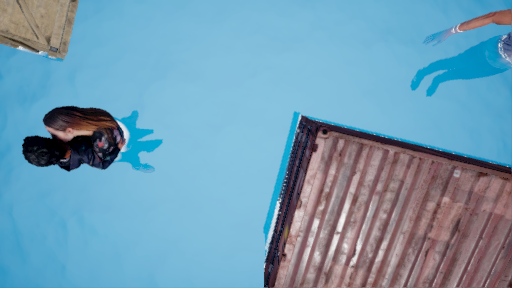person: (28, 102, 163, 178)
